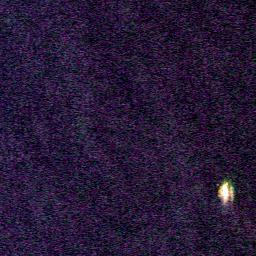Ship: (216, 180, 234, 206)
